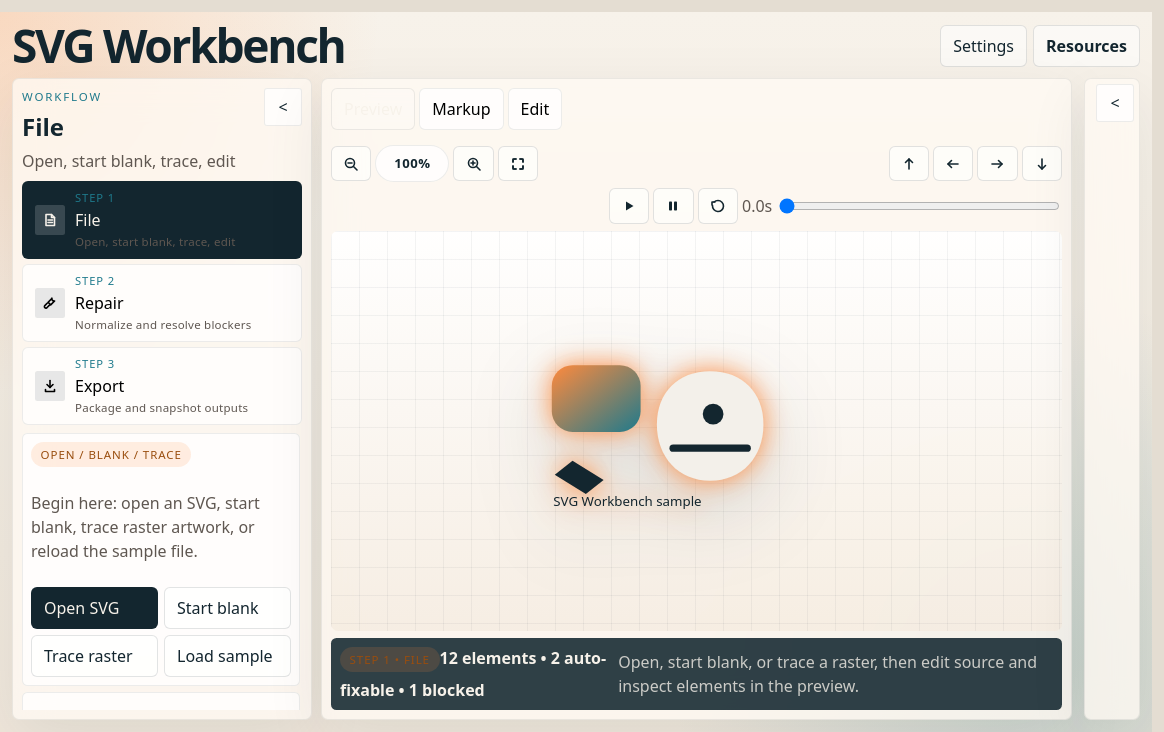
it: App › renders initial sample analysis
Click the button named "inspection panel". click: [1115, 103]
box: [1096,84,1134,122]
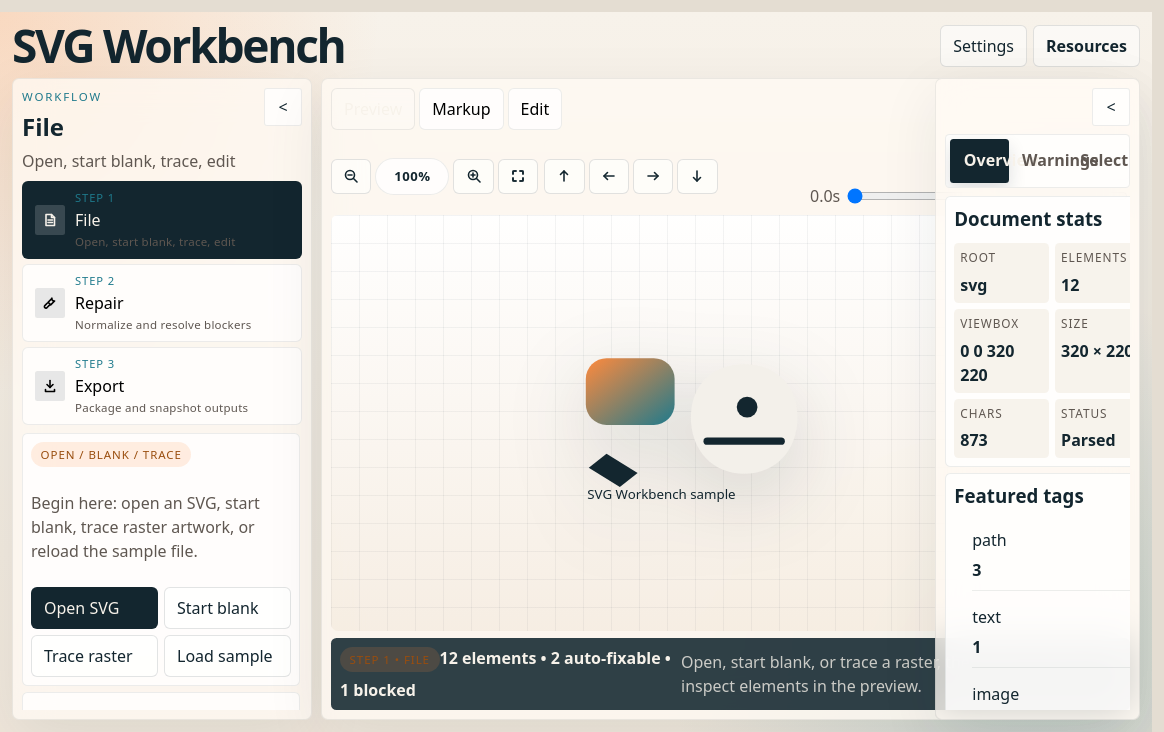
Now the heading "Document stats" is shown, box [954,206,1102,231]
Now the heading "Featured tags" is shown, box [954,483,1084,508]
Click the tab "Warnings". click: [1038, 161]
box: [1008,139,1067,183]
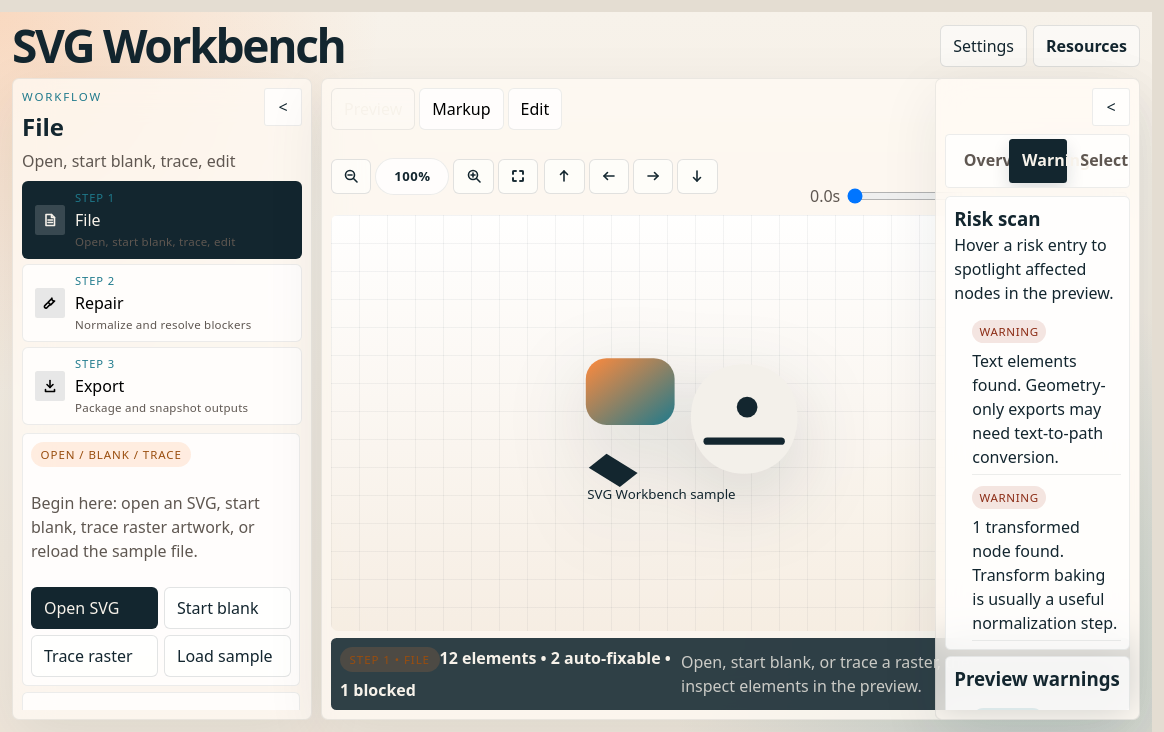
Now the text "Text elements found. Geometry-only exports may need text-to-path conversion." is shown, box [972,349,1121,469]
